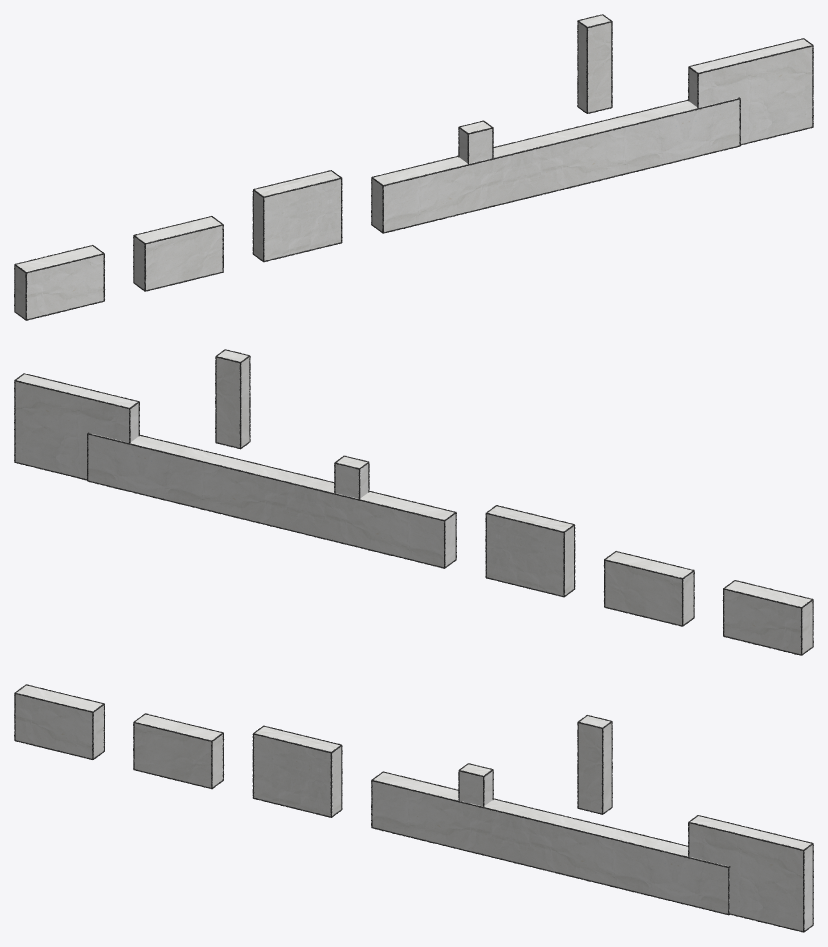
Rendered from voorgrond_level0.glb.
3 renders of one model, top to bottom at view 1: azimuth 30°, elevation 25°; view 2: azimuth 150°, elevation 25°; view 3: azimuth 330°, elevation 25°, orthographic.
Visible parts, largest first — view 1: tutorial_platform_4, tutorial_platform_5, tutorial_platform_3, tutorial_platform_2, tutorial_platform_1, tutorial_balk_hangend, tutorial_blokje; view 2: tutorial_platform_4, tutorial_platform_5, tutorial_platform_3, tutorial_platform_1, tutorial_platform_2, tutorial_balk_hangend, tutorial_blokje; view 3: tutorial_platform_4, tutorial_platform_5, tutorial_platform_3, tutorial_platform_2, tutorial_platform_1, tutorial_balk_hangend, tutorial_blokje.
Part boxes in pixels (bbox=[...]): tutorial_platform_4: bbox=[371, 97, 740, 233]; tutorial_platform_5: bbox=[688, 38, 813, 145]; tutorial_platform_3: bbox=[252, 170, 342, 262]; tutorial_platform_2: bbox=[133, 216, 223, 291]; tutorial_platform_1: bbox=[14, 245, 105, 320]; tutorial_balk_hangend: bbox=[577, 14, 612, 113]; tutorial_blokje: bbox=[458, 120, 493, 163]; tutorial_platform_4: bbox=[87, 432, 456, 568]; tutorial_platform_5: bbox=[14, 373, 139, 480]; tutorial_platform_3: bbox=[485, 505, 575, 597]; tutorial_platform_1: bbox=[722, 580, 813, 655]; tutorial_platform_2: bbox=[603, 551, 694, 626]; tutorial_balk_hangend: bbox=[215, 349, 250, 449]; tutorial_blokje: bbox=[334, 455, 369, 499]; tutorial_platform_4: bbox=[371, 771, 730, 915]; tutorial_platform_5: bbox=[688, 815, 813, 932]; tutorial_platform_3: bbox=[252, 725, 342, 817]; tutorial_platform_2: bbox=[133, 713, 224, 789]; tutorial_platform_1: bbox=[14, 684, 105, 759]; tutorial_balk_hangend: bbox=[577, 715, 612, 814]; tutorial_blokje: bbox=[458, 763, 493, 806].
Bounding box in the file's own units: 57.73 × 10.94 × 1.57.
2 materials, 1 textured.
